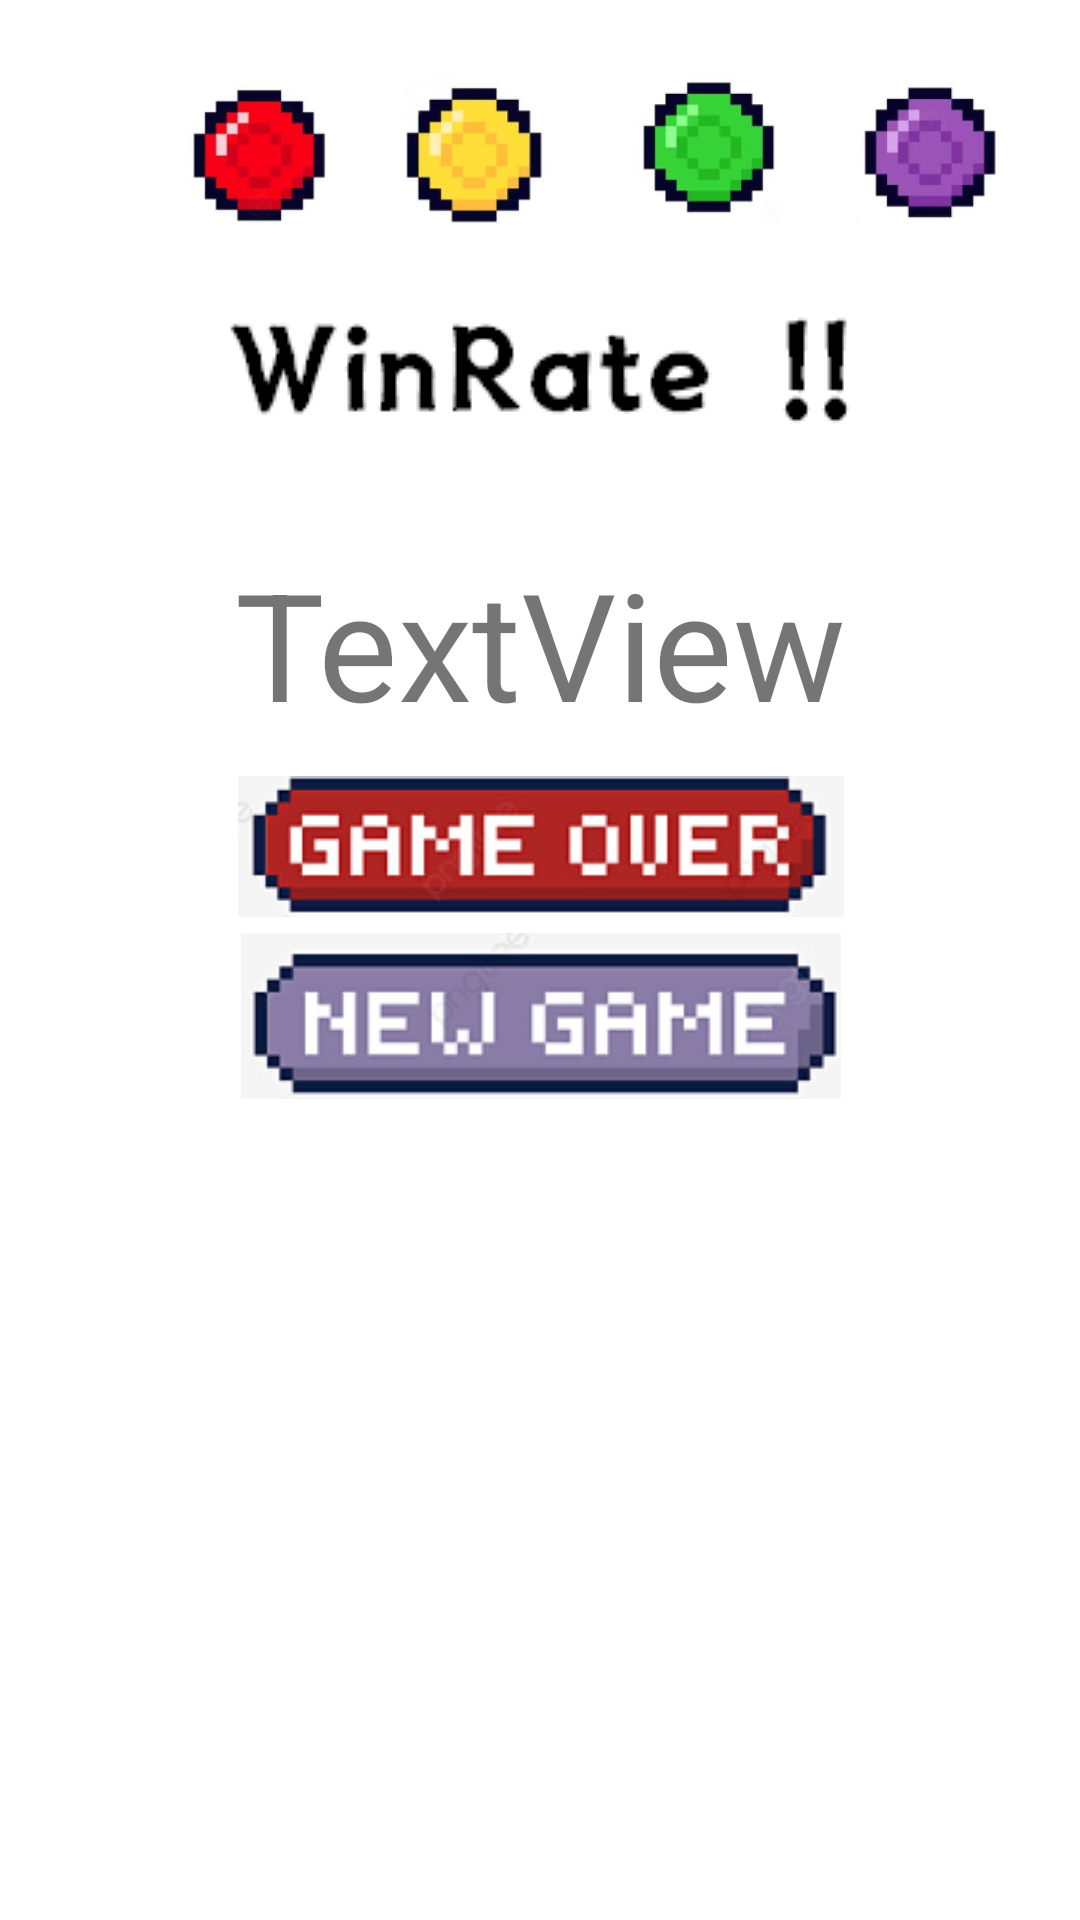

Point at icon controls on the screen. Image size 1080px x 1920px, points as (x,y).
yello: (474,155)
